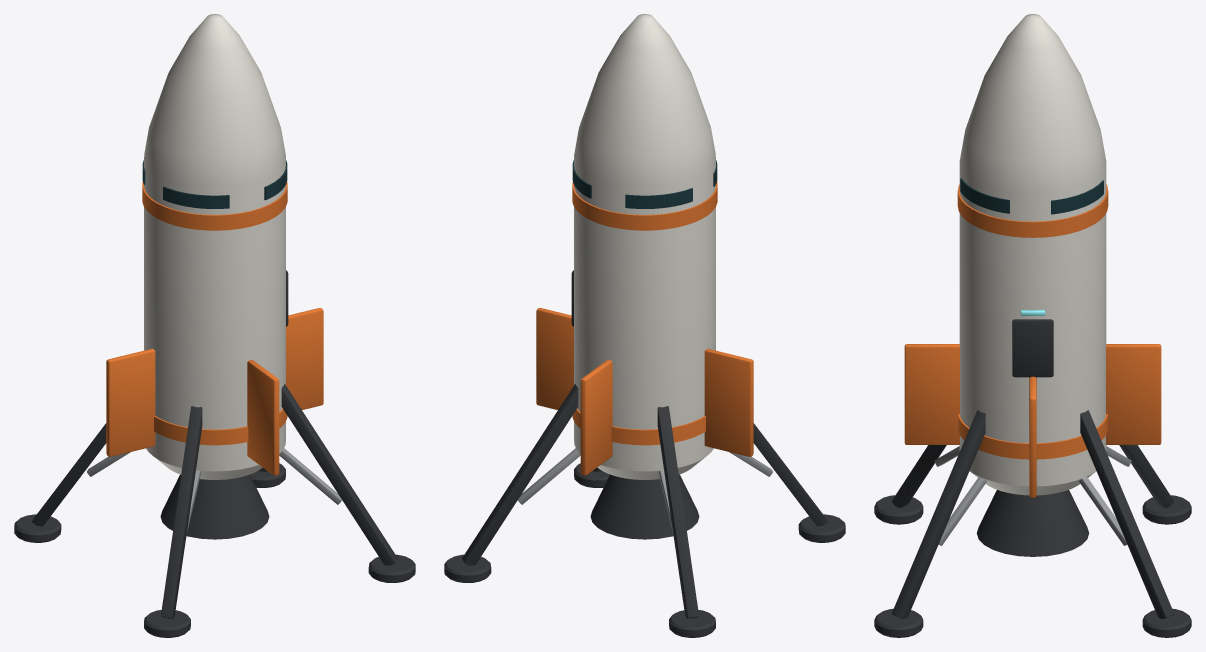
File: rocket.gltf
3 renders of one model, left to right at view 1: azimuth 30°, elevation 25°; view 2: azimuth 150°, elevation 25°; view 3: azimuth 270°, elevation 25°, orthographic. The views are drawn at different scales.
Parts seen in each view (by area): view 1: Rocket; view 2: Rocket; view 3: Rocket.
Part boxes in pixels (left/top/right/bottom): Rocket: left=14, top=14, right=415, bottom=637; Rocket: left=444, top=14, right=845, bottom=637; Rocket: left=874, top=14, right=1191, bottom=637.
Size of the model in its own units: 2.59 by 5.02 by 2.59.
